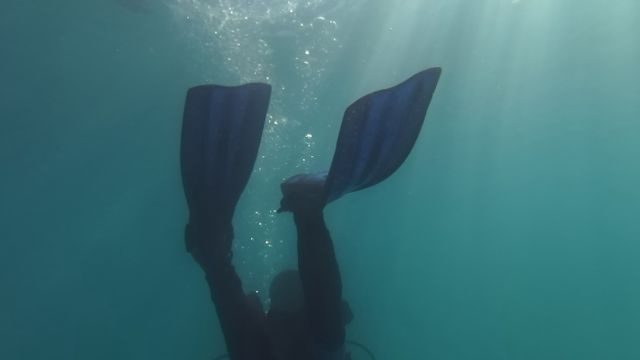Diver: (153, 57, 485, 334)
